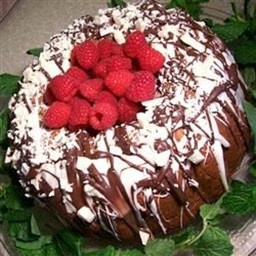background: (0, 0, 102, 102)
